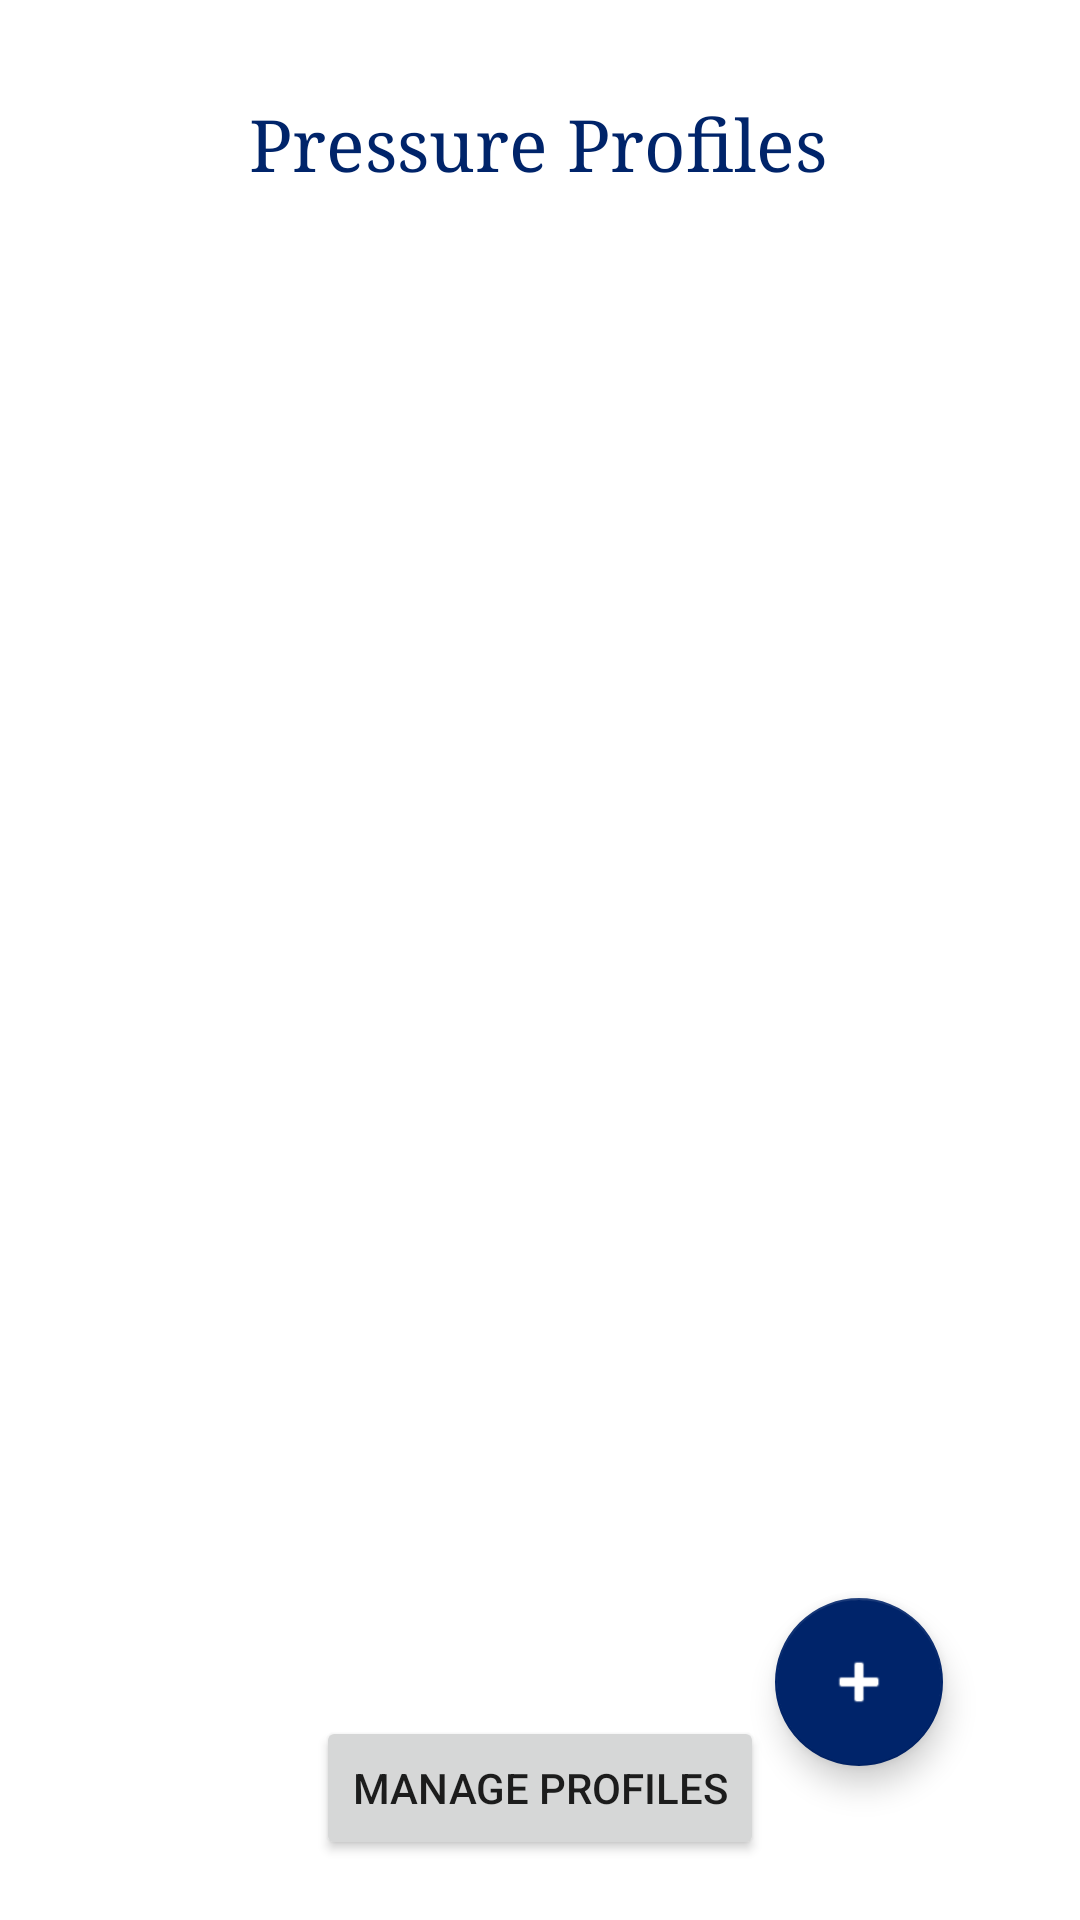

Icon click points for this 1080 × 1920 phone screenshot, format (x,y):
add: (859,1682)
